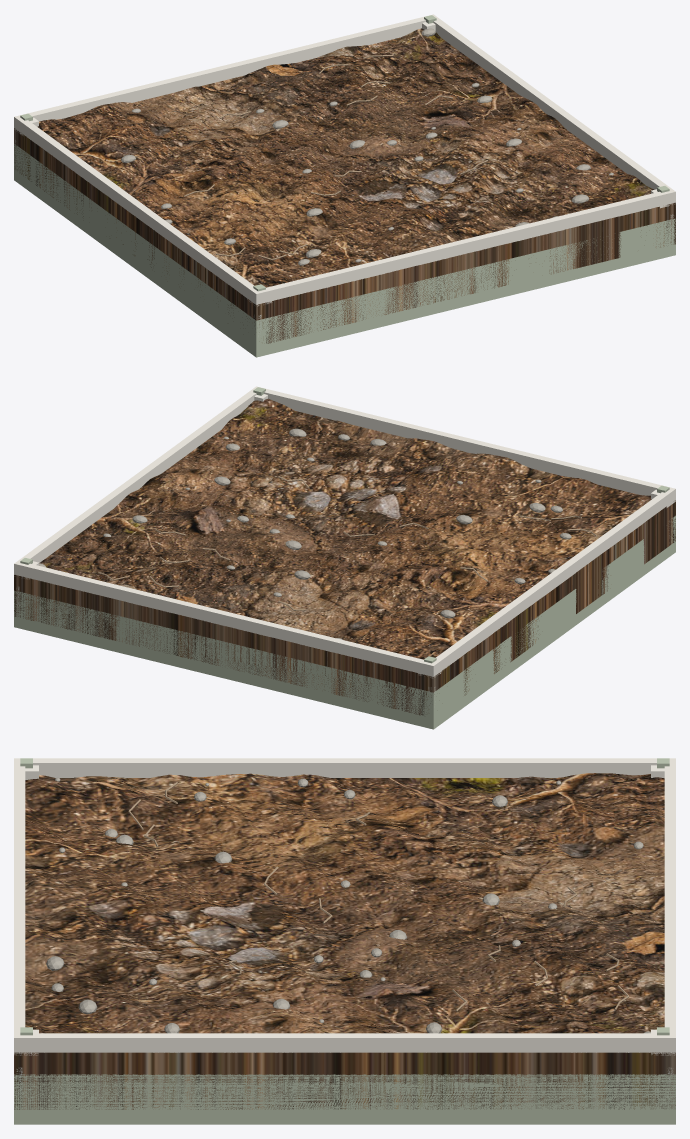
File: s03-untreated-full.glb
The picture shows the model from 3 angles, top to bottom: view 1: azimuth 30°, elevation 25°; view 2: azimuth 150°, elevation 25°; view 3: azimuth 270°, elevation 25°; orthographic projection. The views are drawn at different scales.
Visible parts, largest first — view 1: S03_Physical_Untreated_Soil_Top_RealRelief, S03_Frame_Sage_Solid_Bottom, S03_Cream_Rim_N, S03_Cream_Rim_S, S03_Cream_Rim_W, S03_Cream_Rim_E; view 2: S03_Physical_Untreated_Soil_Top_RealRelief, S03_Frame_Sage_Solid_Bottom, S03_Cream_Rim_S, S03_Cream_Rim_N, S03_Cream_Rim_W, S03_Cream_Rim_E; view 3: S03_Physical_Untreated_Soil_Top_RealRelief, S03_Frame_Sage_Solid_Bottom, S03_Cream_Rim_E, S03_Cream_Rim_W, S03_Cream_Rim_S, S03_Cream_Rim_N.
Part boxes in pixels (<box>): S03_Physical_Untreated_Soil_Top_RealRelief: <box>14,28,675,343</box>; S03_Frame_Sage_Solid_Bottom: <box>14,144,675,357</box>; S03_Cream_Rim_N: <box>252,189,675,304</box>; S03_Cream_Rim_S: <box>14,14,436,130</box>; S03_Cream_Rim_W: <box>14,116,263,304</box>; S03_Cream_Rim_E: <box>432,14,675,202</box>; S03_Physical_Untreated_Soil_Top_RealRelief: <box>14,398,675,715</box>; S03_Frame_Sage_Solid_Bottom: <box>14,515,675,729</box>; S03_Cream_Rim_S: <box>14,561,437,676</box>; S03_Cream_Rim_N: <box>252,386,675,499</box>; S03_Cream_Rim_W: <box>427,489,675,676</box>; S03_Cream_Rim_E: <box>14,389,256,574</box>; S03_Physical_Untreated_Soil_Top_RealRelief: <box>14,773,675,1109</box>; S03_Frame_Sage_Solid_Bottom: <box>14,1074,675,1124</box>; S03_Cream_Rim_E: <box>14,1033,675,1052</box>; S03_Cream_Rim_W: <box>14,758,675,777</box>; S03_Cream_Rim_S: <box>664,758,675,1052</box>; S03_Cream_Rim_N: <box>14,758,25,1052</box>.
Bounding box in the file's own units: 1 × 0.149 × 1.
Materials: 8 (1 with a texture image).
